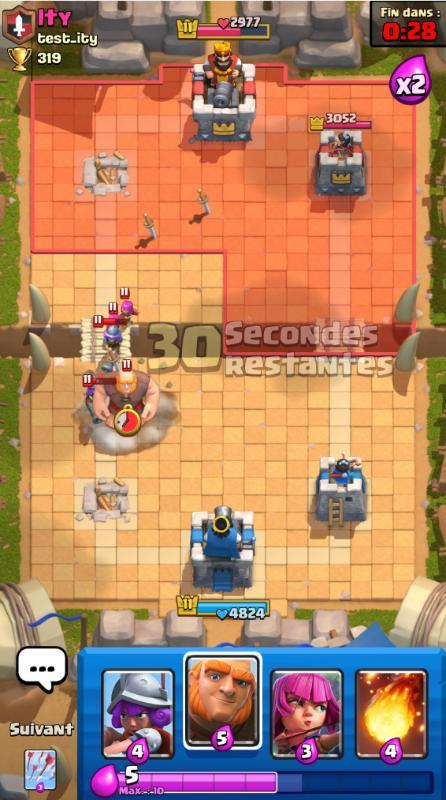archere: (119, 287, 139, 324), (107, 302, 120, 332)
geant: (93, 359, 160, 428)
mousquetaire: (93, 315, 127, 373), (82, 375, 116, 425)
